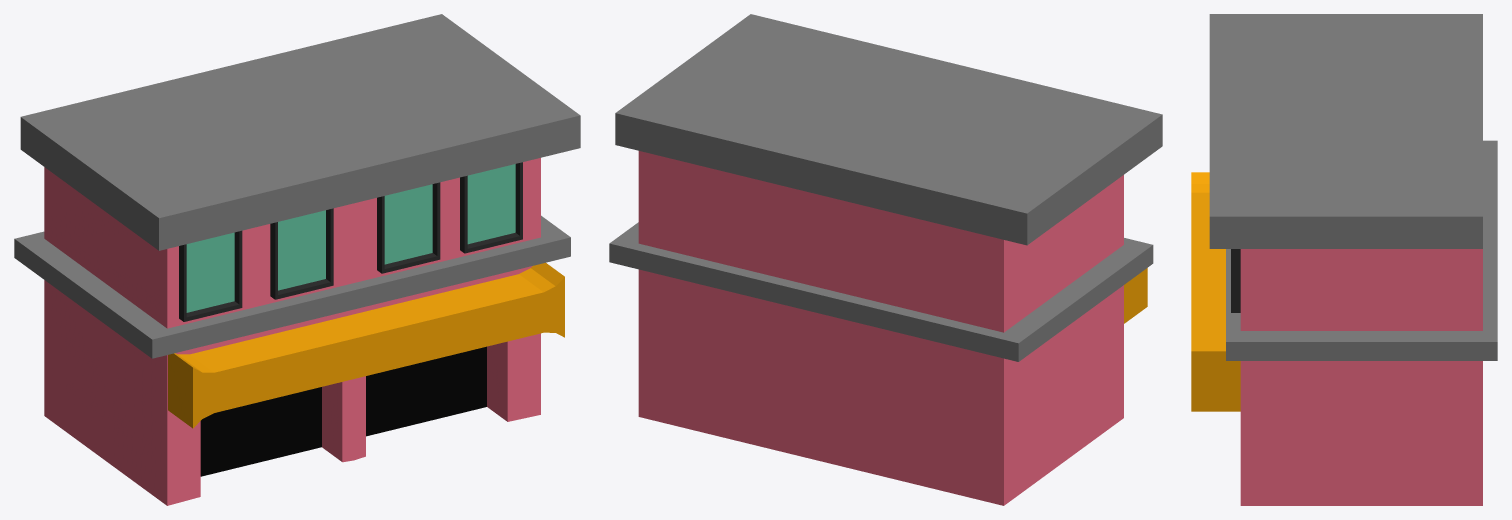
Rendered from PredioGenericoEscalavelRosa.fbx.
The picture shows the model from 3 angles, left to right: view 1: azimuth 30°, elevation 25°; view 2: azimuth 150°, elevation 25°; view 3: azimuth 270°, elevation 25°; orthographic projection. The views are drawn at different scales.
Visible parts, largest first — view 1: LojaGenericaEscalavel; view 2: LojaGenericaEscalavel; view 3: LojaGenericaEscalavel.
Boxes of the visible parts, x1,y1,x2,y2 form: LojaGenericaEscalavel: (14,14,580,505); LojaGenericaEscalavel: (609,14,1162,505); LojaGenericaEscalavel: (1191,14,1497,505).
Bounding box in the file's own units: 1095 × 757 × 699.
1 material, 1 textured.
